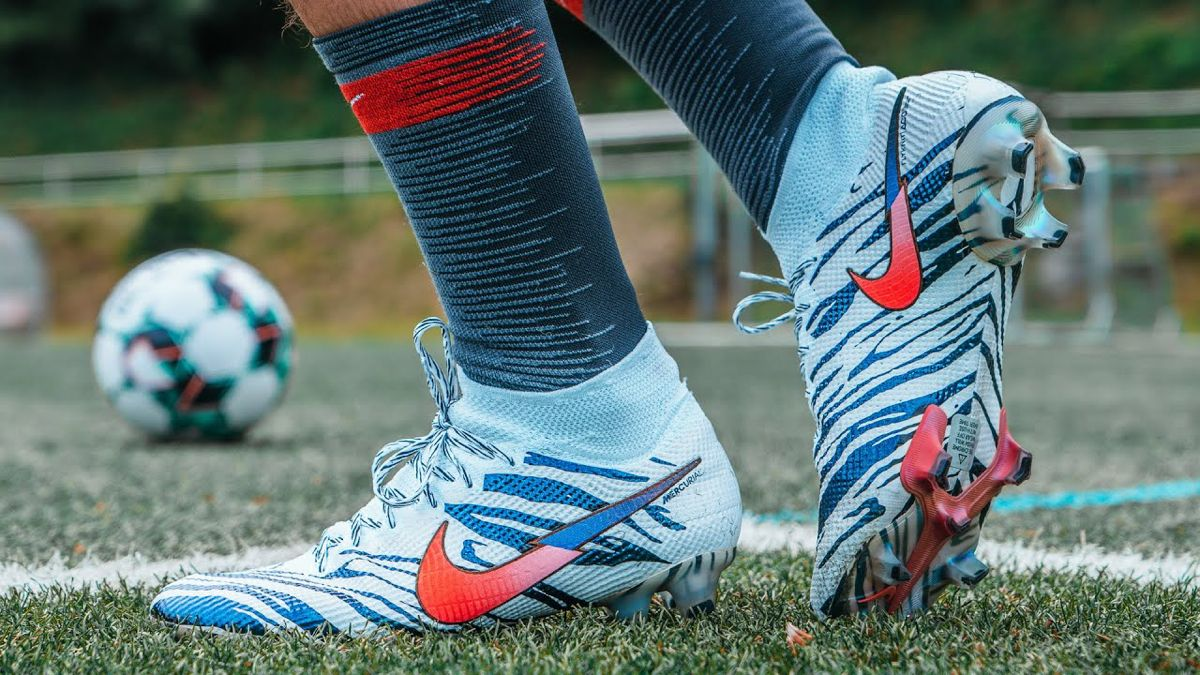football boots: (771, 71, 1086, 630), (150, 366, 741, 640)
